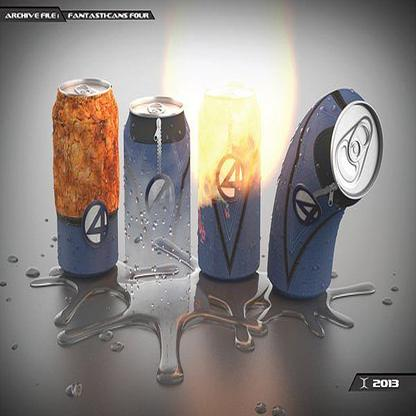can: (265, 84, 381, 301), (42, 69, 124, 280), (121, 86, 197, 302), (188, 71, 265, 280)
